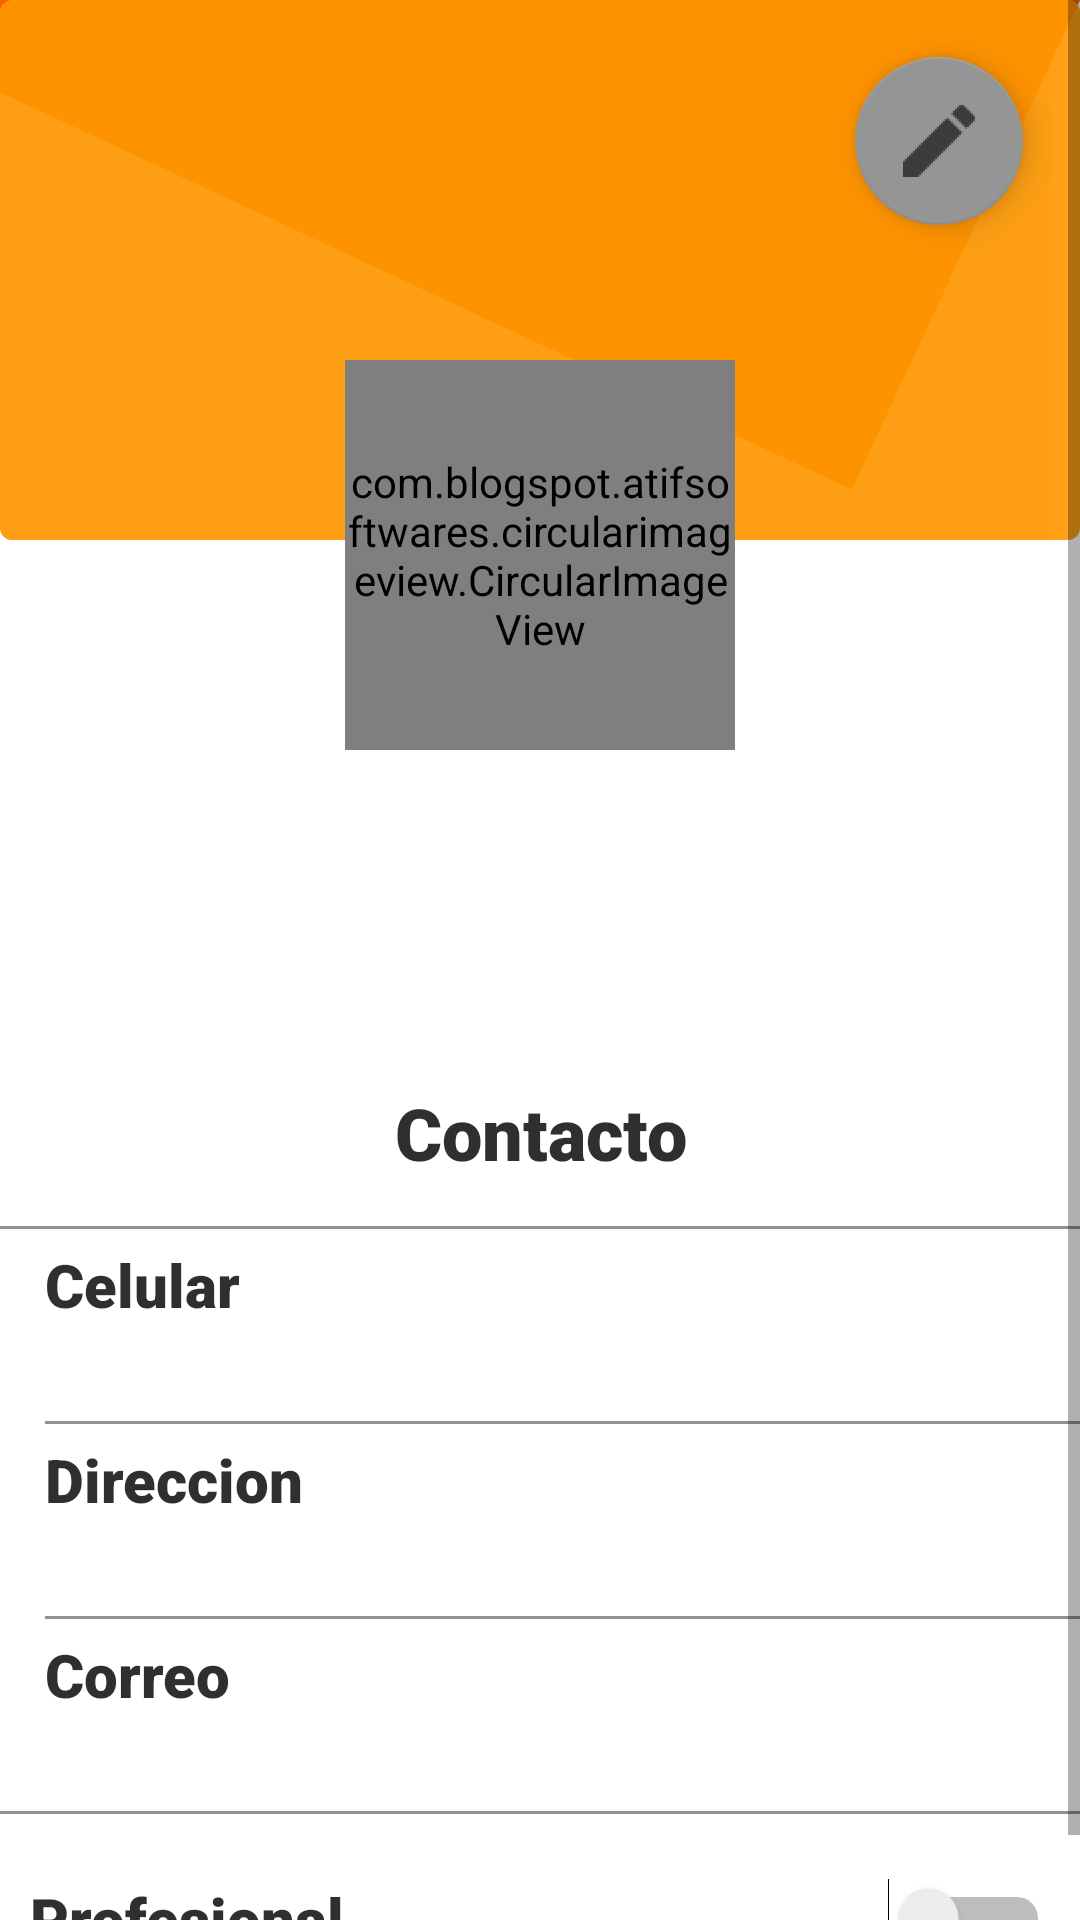

Locate icon controls on the screen. Image size 1080*1920, boxes as region(x1, y1, x2, y2).
edit: region(855, 57, 1023, 225)
